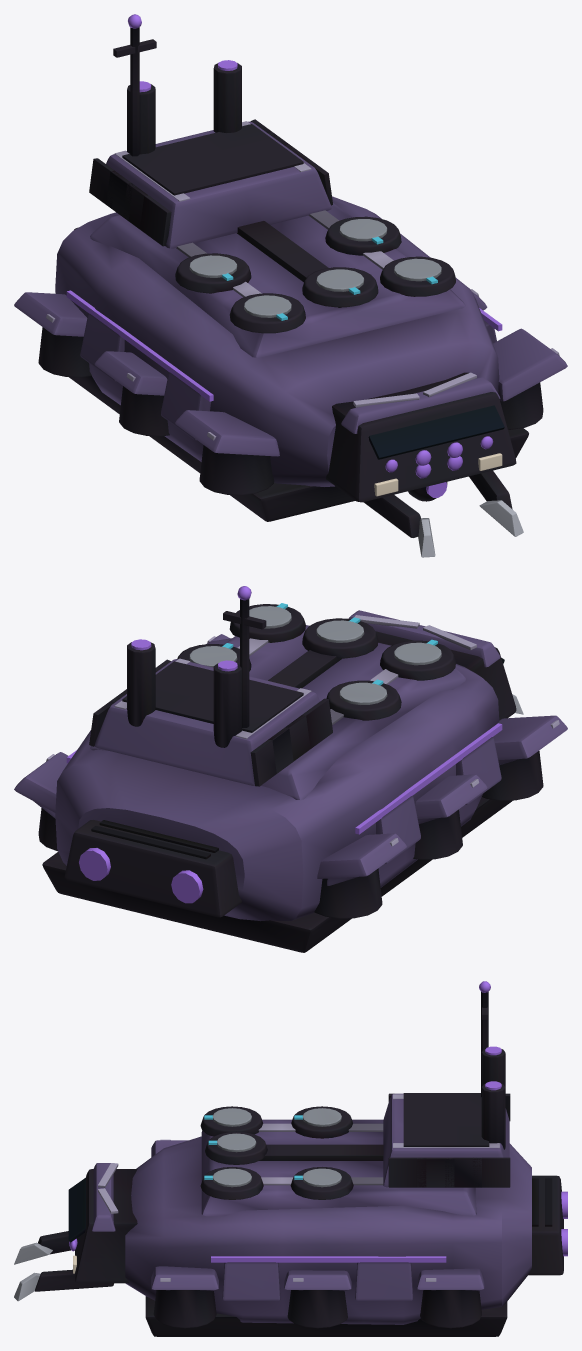
File: ex_strider_8.glb
The picture shows the model from 3 angles, top to bottom: view 1: azimuth 30°, elevation 25°; view 2: azimuth 150°, elevation 25°; view 3: azimuth 270°, elevation 25°; orthographic projection. The views are drawn at different scales.
Parts seen in each view (by area): view 1: body; view 2: body; view 3: body.
Part boxes in pixels (x1,y1,x2,y2): body: (14, 14, 567, 557); body: (14, 586, 567, 952); body: (14, 981, 567, 1336).
Size of the model in its own units: 6.75 by 6.27 by 11.08.
